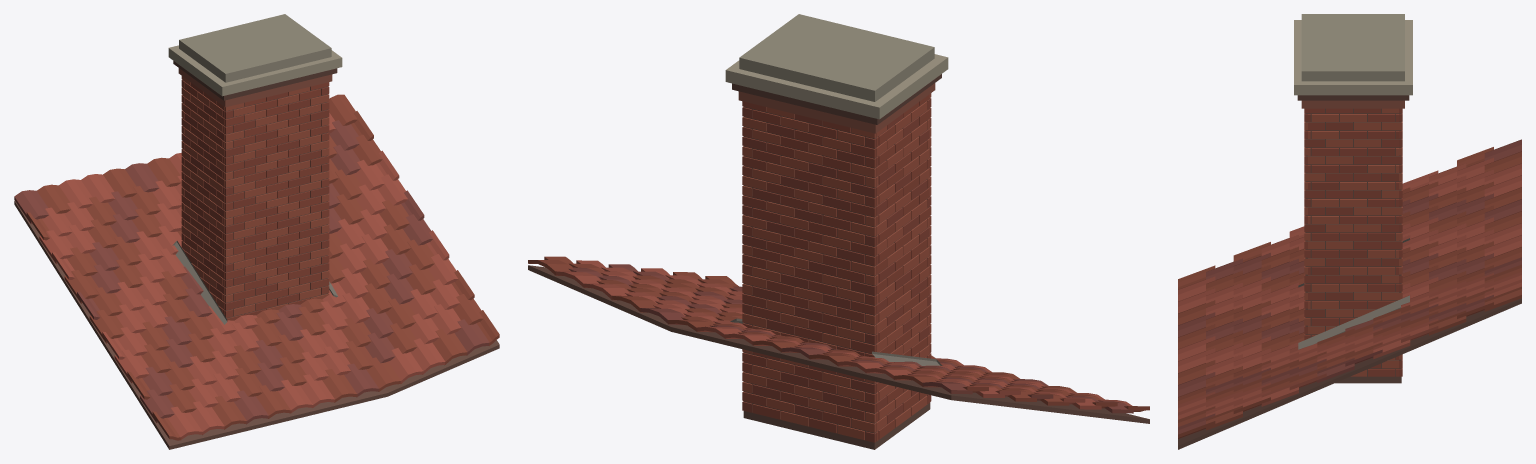
The model's file is yangpu-pingliang-250-hip-roof-chimney-lod.glb.
3 views of the same model, side by side, from view 1: azimuth 30°, elevation 25°; view 2: azimuth 150°, elevation 25°; view 3: azimuth 270°, elevation 25° (orthographic). The views are drawn at different scales.
Parts seen in each view (by area): view 1: 平凉路250号住宅红砖烟囱与斜坡瓦面; view 2: 平凉路250号住宅红砖烟囱与斜坡瓦面; view 3: 平凉路250号住宅红砖烟囱与斜坡瓦面.
Part boxes in pixels (left/top/right/bottom): 平凉路250号住宅红砖烟囱与斜坡瓦面: left=14, top=14, right=499, bottom=449; 平凉路250号住宅红砖烟囱与斜坡瓦面: left=528, top=14, right=1149, bottom=449; 平凉路250号住宅红砖烟囱与斜坡瓦面: left=1178, top=14, right=1521, bottom=449.
Size of the model in its own units: 3.52 by 3.13 by 2.86.
